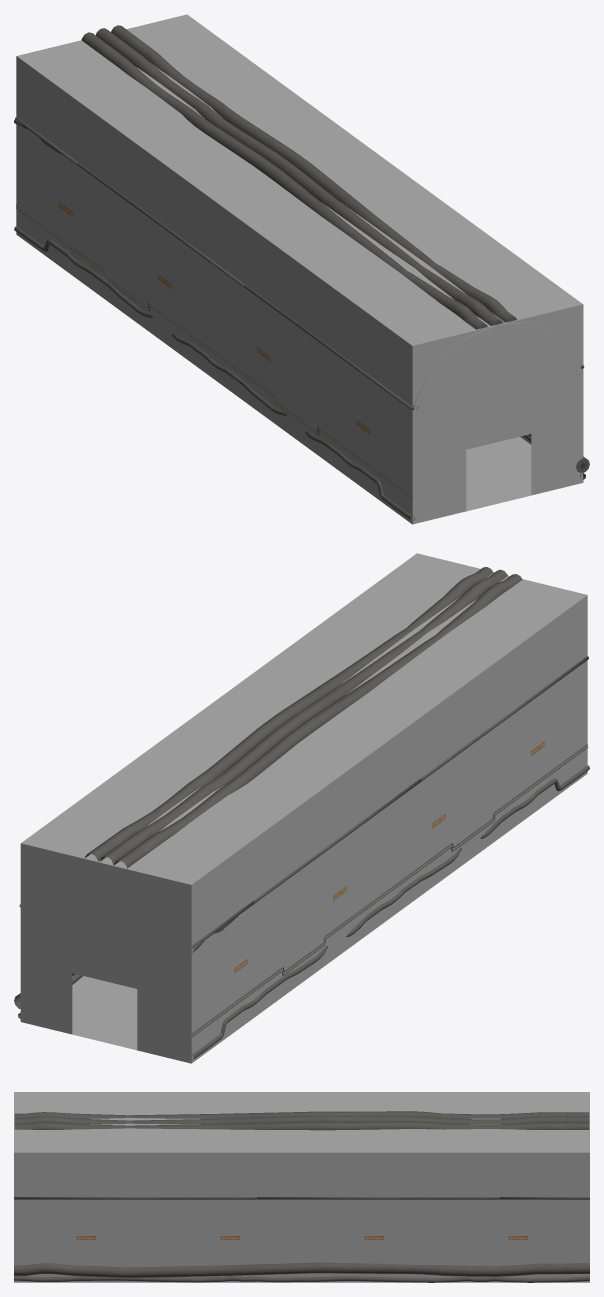
File: BargeCorrCombined.fbx
3 views of the same model, one above another, from view 1: azimuth 30°, elevation 25°; view 2: azimuth 150°, elevation 25°; view 3: azimuth 270°, elevation 25° (orthographic). The views are drawn at different scales.
Visible parts, largest first — view 1: BargeCorr_Wall, BargeCorr_Ceiling, BargeCorr_Wall1, Pipe_Big_R3, Pipe_Big_R1, Pipe_Big_R2, BargeCorr_Floor, Pipe_Big_L_Up, Pipe_Horizontal_Small_L1, Pipe_L1; view 2: BargeCorr_Wall (×2), BargeCorr_Ceiling, Pipe_Big_R3, Pipe_Big_R1, Pipe_Big_R2, BargeCorr_Floor, Pipe_Big_L_Up, Pipe_Horizontal_Small_L1, Pipe_L1; view 3: BargeCorr_Wall, BargeCorr_Ceiling, Pipe_Big_R, Pipe_Big_R2, Pipe_Big_R1, Pipe_Big_L1, Pipe_Big_R3, Pipe_L.
Part boxes in pixels (x1,y1,x2,y2): BargeCorr_Wall: (16,56,583,524); BargeCorr_Ceiling: (17,14,582,345); BargeCorr_Wall1: (412,304,582,523); Pipe_Big_R3: (81,32,487,329); Pipe_Big_R1: (96,28,503,325); Pipe_Big_R2: (111,25,517,322); BargeCorr_Floor: (413,436,582,524); Pipe_Big_L_Up: (14,226,414,520); Pipe_Horizontal_Small_L1: (16,204,412,498); Pipe_L1: (15,117,414,410); BargeCorr_Wall (×2): (20,595,587,1063); BargeCorr_Ceiling: (21,553,586,884); Pipe_Big_R3: (114,574,522,868); Pipe_Big_R1: (100,569,507,865); Pipe_Big_R2: (84,567,493,861); BargeCorr_Floor: (72,976,137,1050); Pipe_Big_L_Up: (192,765,589,1059); Pipe_Horizontal_Small_L1: (192,744,588,1036); Pipe_L1: (192,656,588,949); BargeCorr_Wall: (14,1152,589,1282); BargeCorr_Ceiling: (14,1092,589,1152); Pipe_Big_R: (14,1262,589,1277); Pipe_Big_R2: (14,1121,589,1130); Pipe_Big_R1: (14,1116,589,1124); Pipe_Big_L1: (14,1276,589,1282); Pipe_Big_R3: (14,1111,589,1118); Pipe_L: (14,1197,589,1199).
Size of the model in its own units: 1056 by 1045 by 4019.
